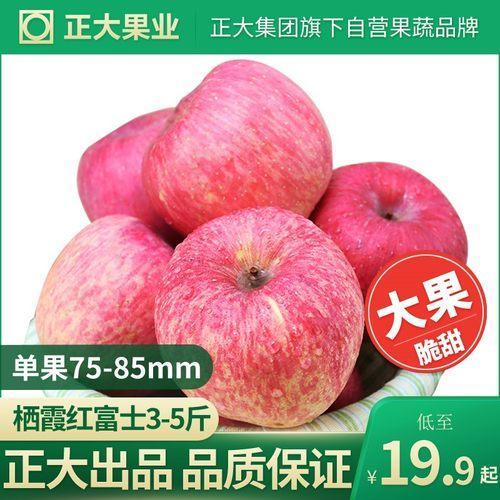apple: (156, 208, 363, 429), (144, 58, 334, 233), (318, 158, 468, 298), (29, 212, 173, 345), (74, 104, 184, 233)
